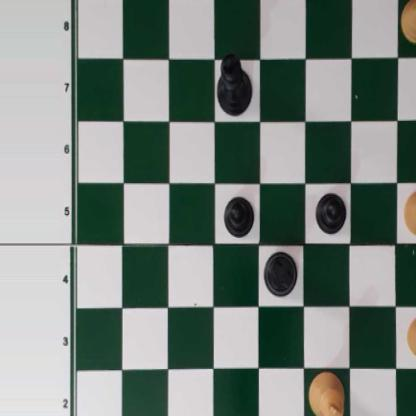black-king: (215, 52, 254, 114)
black-pawn: (314, 191, 346, 234), (223, 196, 254, 238)
black-rook: (265, 249, 297, 296)
white-bishop: (399, 0, 416, 42)
white-king: (307, 368, 344, 416)
white-pawn: (404, 312, 416, 359)
white-rook: (402, 188, 416, 235)
